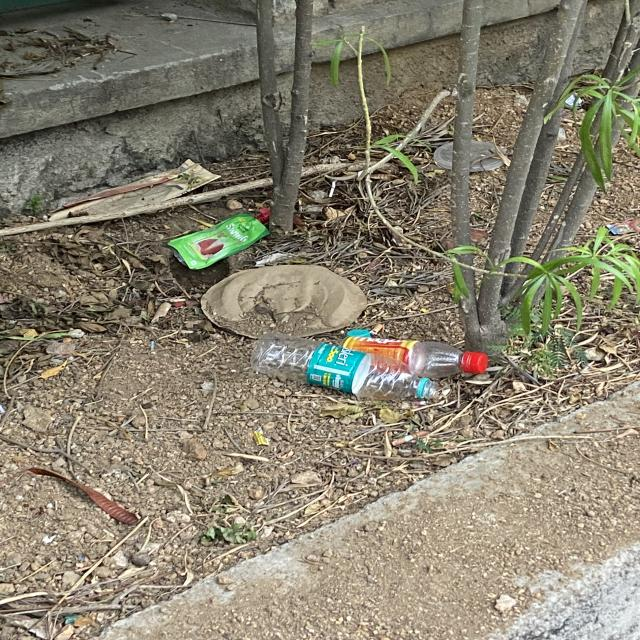chai_nhua: (250, 333, 436, 402), (343, 336, 488, 378)
giay: (200, 265, 367, 338)
goi_nhua_nho: (167, 213, 269, 270)
nhua: (470, 140, 509, 172), (434, 141, 454, 169)
